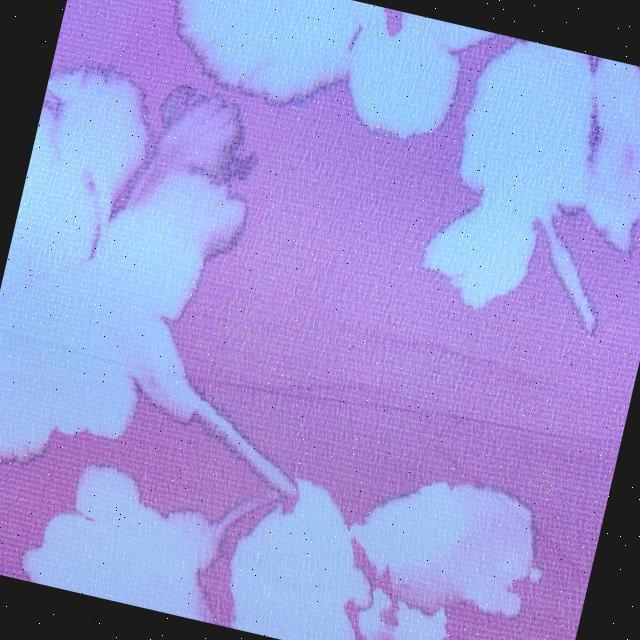pulled_or_thick_thread: (215, 380, 585, 447)
